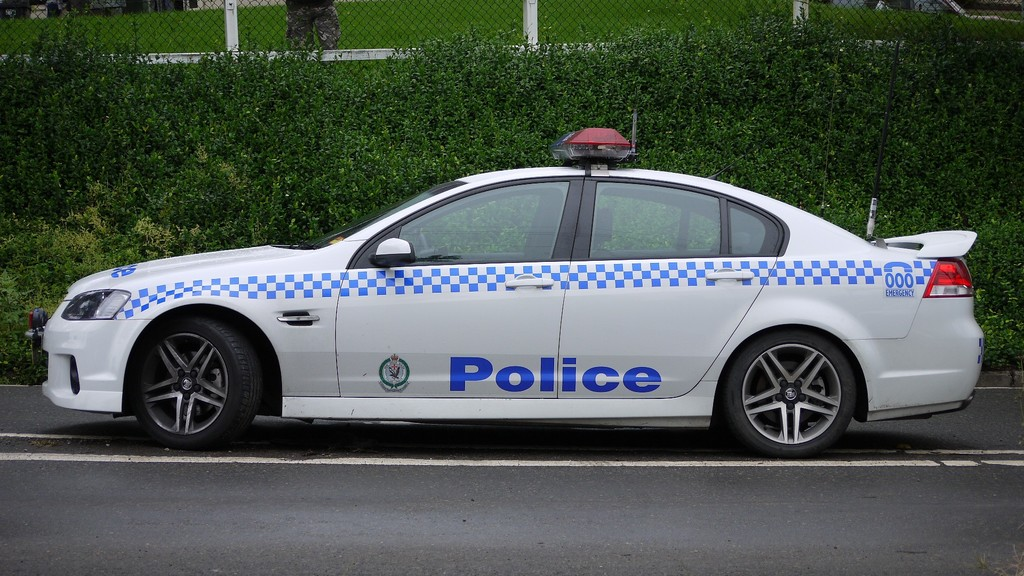Car: (14, 160, 963, 455)
